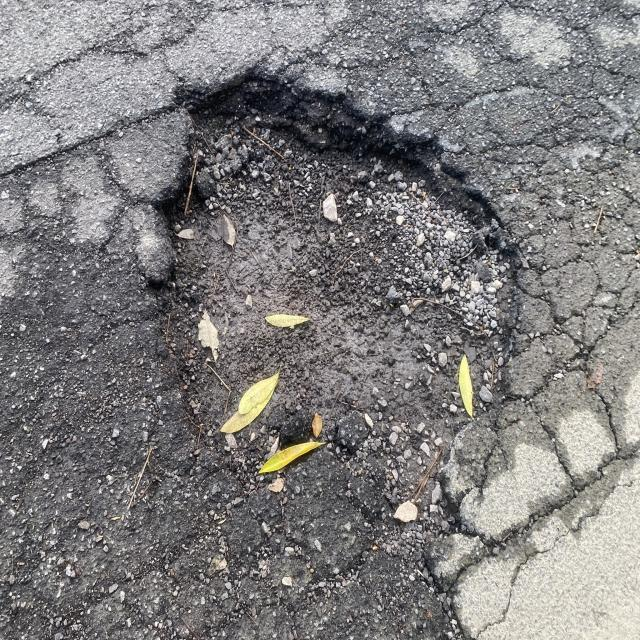Pothole: (138, 41, 570, 515)
